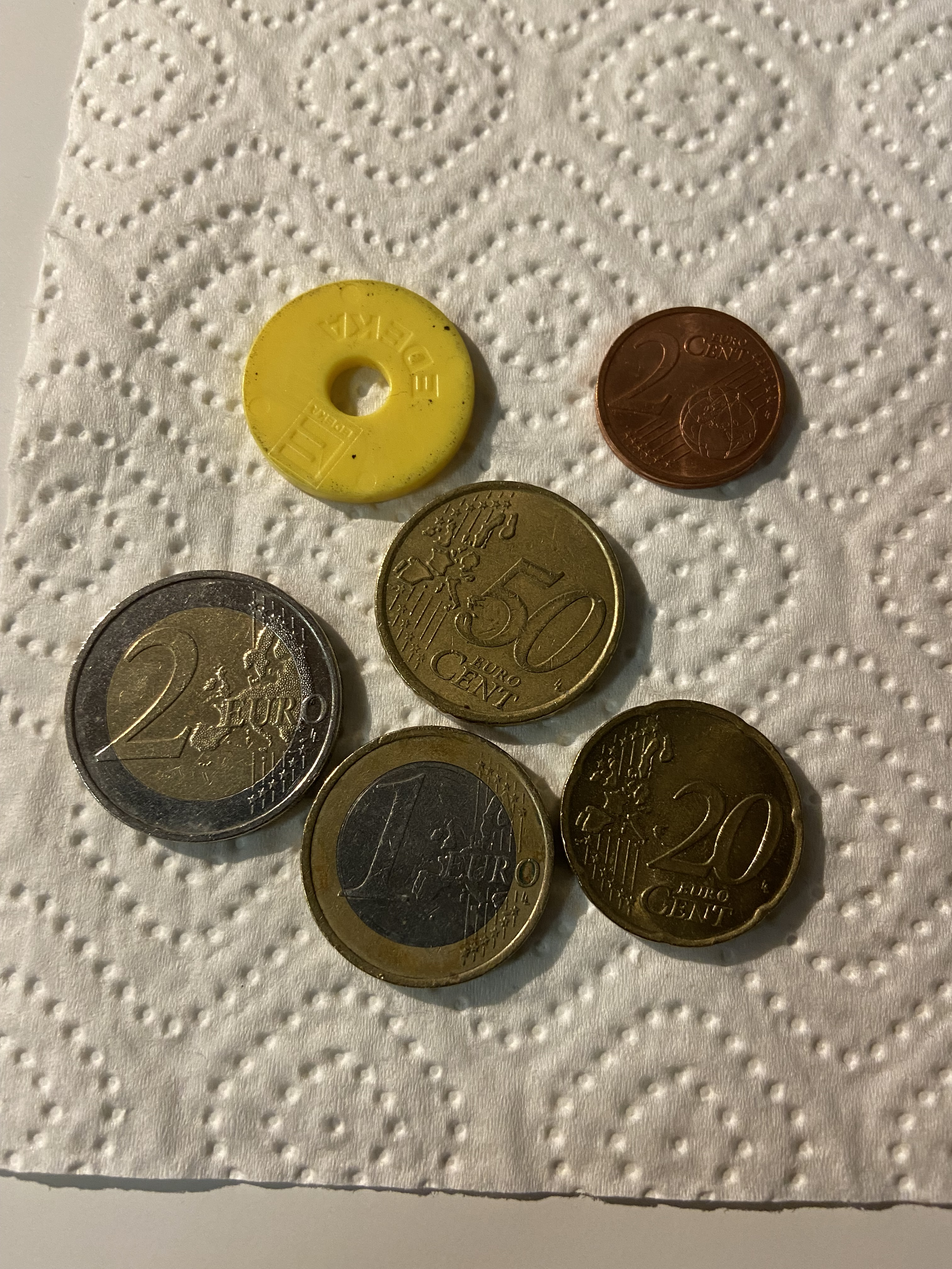1 euro: (299, 722, 552, 1000)
2 cent: (588, 292, 797, 497)
2 euro: (55, 565, 345, 844)
20 cent: (551, 692, 804, 952)
50 cent: (363, 478, 625, 724)
